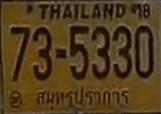0: (134, 26, 153, 78)
3: (90, 25, 110, 78), (32, 26, 51, 80), (112, 25, 131, 78)
5: (69, 25, 88, 79)
7: (10, 26, 29, 78)
SPK: (33, 84, 135, 112)
